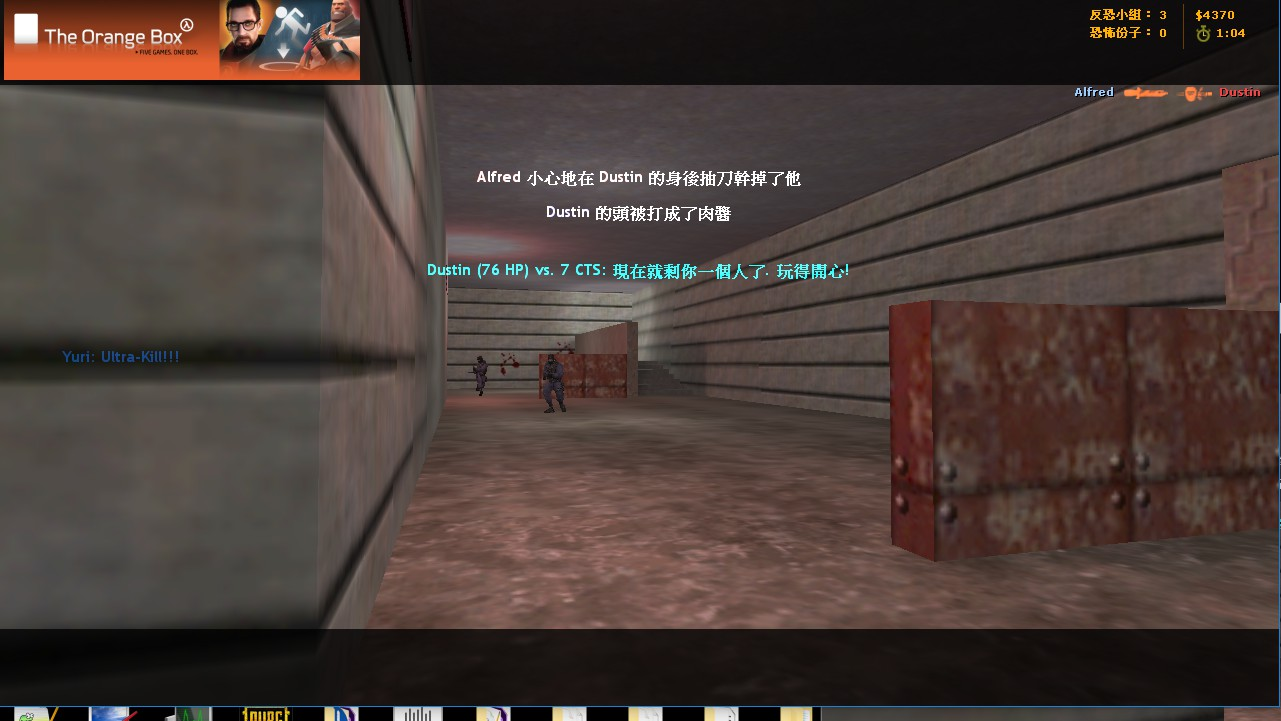person: (539, 354, 570, 415), (472, 354, 491, 399)
